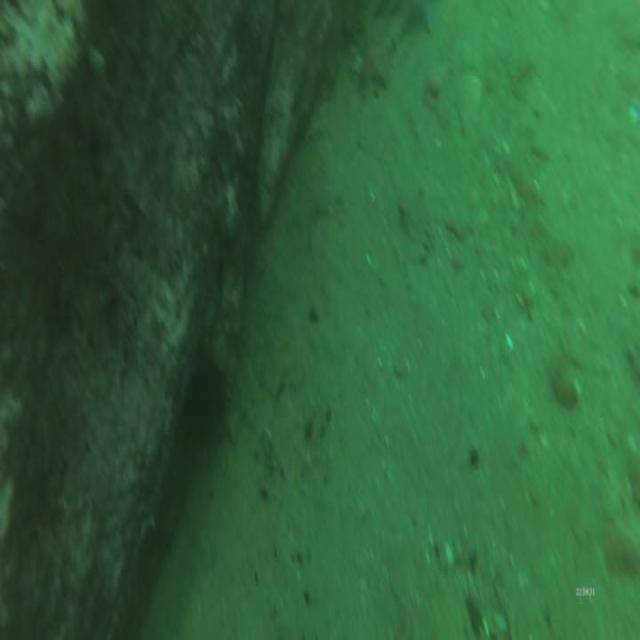echinus: (182, 361, 228, 454)
holothurian: (220, 384, 253, 439)
starfish: (355, 36, 390, 98)
